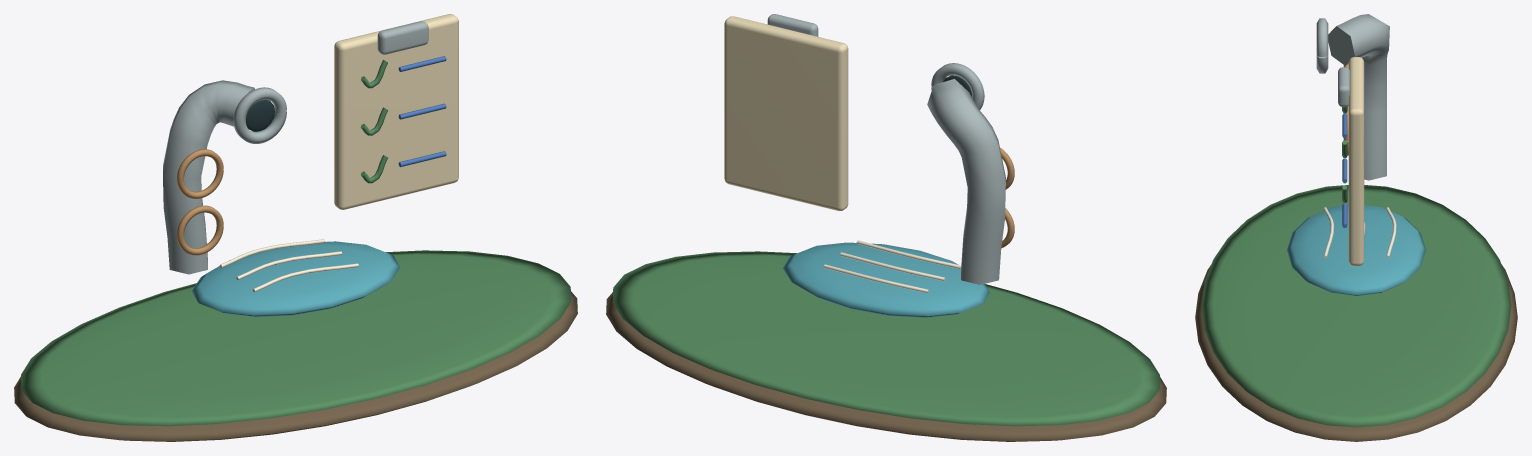
File: complete-second-pipe-reason-management.glb
3 renders of one model, left to right at view 1: azimuth 30°, elevation 25°; view 2: azimuth 150°, elevation 25°; view 3: azimuth 270°, elevation 25°, orthographic. The views are drawn at different scales.
Parts seen in each view (by area): view 1: complete-second-pipe-reason-management_surface_01, complete-second-pipe-reason-management_surface_05, complete-second-pipe-reason-management_surface_07, complete-second-pipe-reason-management_surface_02, complete-second-pipe-reason-management_surface_00, complete-second-pipe-reason-management_surface_04, complete-second-pipe-reason-management_surface_08, complete-second-pipe-reason-management_surface_06, complete-second-pipe-reason-management_surface_03; view 2: complete-second-pipe-reason-management_surface_01, complete-second-pipe-reason-management_surface_05, complete-second-pipe-reason-management_surface_07, complete-second-pipe-reason-management_surface_02, complete-second-pipe-reason-management_surface_00, complete-second-pipe-reason-management_surface_08, complete-second-pipe-reason-management_surface_04; view 3: complete-second-pipe-reason-management_surface_01, complete-second-pipe-reason-management_surface_07, complete-second-pipe-reason-management_surface_02, complete-second-pipe-reason-management_surface_00, complete-second-pipe-reason-management_surface_05, complete-second-pipe-reason-management_surface_08, complete-second-pipe-reason-management_surface_06.
Part boxes in pixels (x1=…): complete-second-pipe-reason-management_surface_01: x1=21, y1=60, x2=570, y2=426; complete-second-pipe-reason-management_surface_05: x1=334, y1=14, x2=458, y2=209; complete-second-pipe-reason-management_surface_07: x1=192, y1=241, x2=399, y2=316; complete-second-pipe-reason-management_surface_02: x1=163, y1=21, x2=428, y2=274; complete-second-pipe-reason-management_surface_00: x1=14, y1=291, x2=577, y2=441; complete-second-pipe-reason-management_surface_04: x1=177, y1=149, x2=223, y2=255; complete-second-pipe-reason-management_surface_08: x1=219, y1=239, x2=358, y2=292; complete-second-pipe-reason-management_surface_06: x1=398, y1=56, x2=446, y2=167; complete-second-pipe-reason-management_surface_03: x1=246, y1=99, x2=274, y2=131; complete-second-pipe-reason-management_surface_01: x1=613, y1=251, x2=1159, y2=426; complete-second-pipe-reason-management_surface_05: x1=724, y1=16, x2=848, y2=210; complete-second-pipe-reason-management_surface_07: x1=783, y1=242, x2=989, y2=317; complete-second-pipe-reason-management_surface_02: x1=767, y1=14, x2=1005, y2=284; complete-second-pipe-reason-management_surface_00: x1=606, y1=292, x2=1166, y2=441; complete-second-pipe-reason-management_surface_08: x1=823, y1=240, x2=961, y2=293; complete-second-pipe-reason-management_surface_04: x1=1000, y1=147, x2=1014, y2=248; complete-second-pipe-reason-management_surface_01: x1=1201, y1=106, x2=1511, y2=427; complete-second-pipe-reason-management_surface_07: x1=1287, y1=205, x2=1425, y2=295; complete-second-pipe-reason-management_surface_02: x1=1316, y1=14, x2=1389, y2=180; complete-second-pipe-reason-management_surface_00: x1=1195, y1=264, x2=1517, y2=441; complete-second-pipe-reason-management_surface_05: x1=1348, y1=57, x2=1364, y2=266; complete-second-pipe-reason-management_surface_08: x1=1323, y1=207, x2=1396, y2=258; complete-second-pipe-reason-management_surface_06: x1=1342, y1=113, x2=1347, y2=227.
Size of the model in its own units: 4.56 by 2.59 by 2.5.
